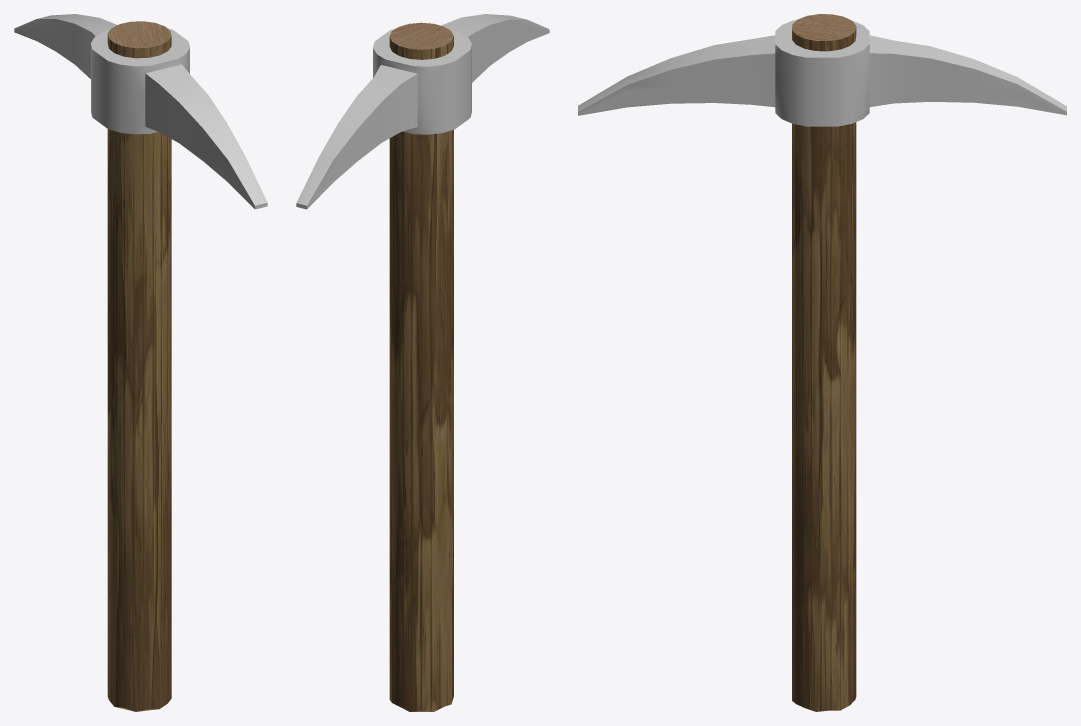
The model's file is IronPickaxe.fbx.
The picture shows the model from 3 angles, left to right: view 1: azimuth 30°, elevation 25°; view 2: azimuth 150°, elevation 25°; view 3: azimuth 270°, elevation 25°; orthographic projection.
Visible parts, largest first — view 1: IronPickaxeModel; view 2: IronPickaxeModel; view 3: IronPickaxeModel.
Part boxes in pixels (bbox=[...]): IronPickaxeModel: bbox=[14, 14, 267, 711]; IronPickaxeModel: bbox=[296, 14, 549, 711]; IronPickaxeModel: bbox=[578, 14, 1066, 711].
Bounding box in the file's own units: 19.1 × 150 × 99.16.
